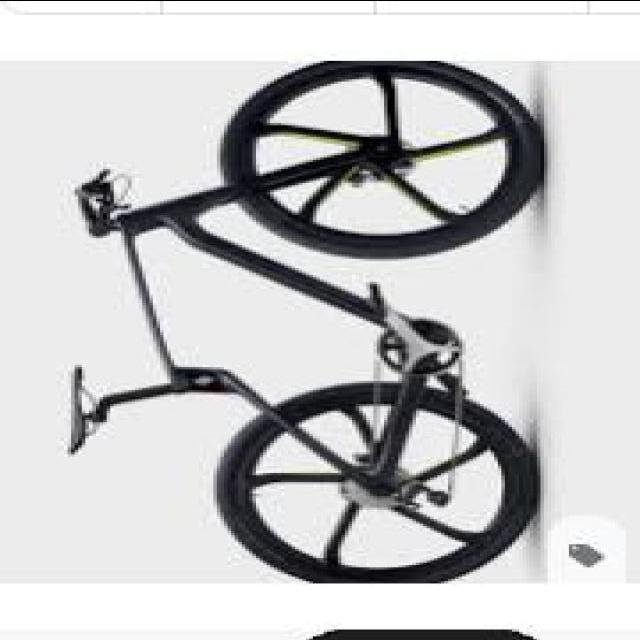bicycle: (47, 63, 563, 572)
